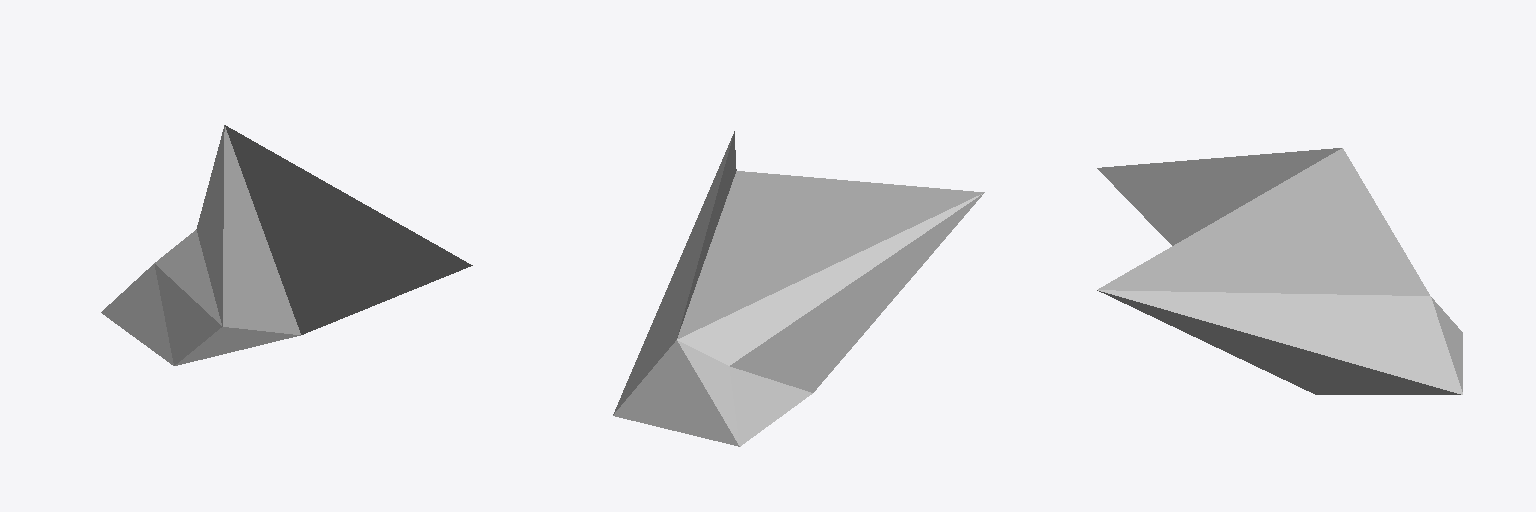
Rendered from fish-2.obj.
The picture shows the model from 3 angles: view 1: azimuth 30°, elevation 25°; view 2: azimuth 150°, elevation 25°; view 3: azimuth 270°, elevation 25°; orthographic projection.
Parts seen in each view (by area): view 1: Cube; view 2: Cube; view 3: Cube.
Part boxes in pixels (bbox=[...]): Cube: bbox=[101, 125, 472, 365]; Cube: bbox=[613, 131, 984, 446]; Cube: bbox=[1097, 148, 1462, 394].
Size of the model in its own units: 3.94 by 3.25 by 4.99.